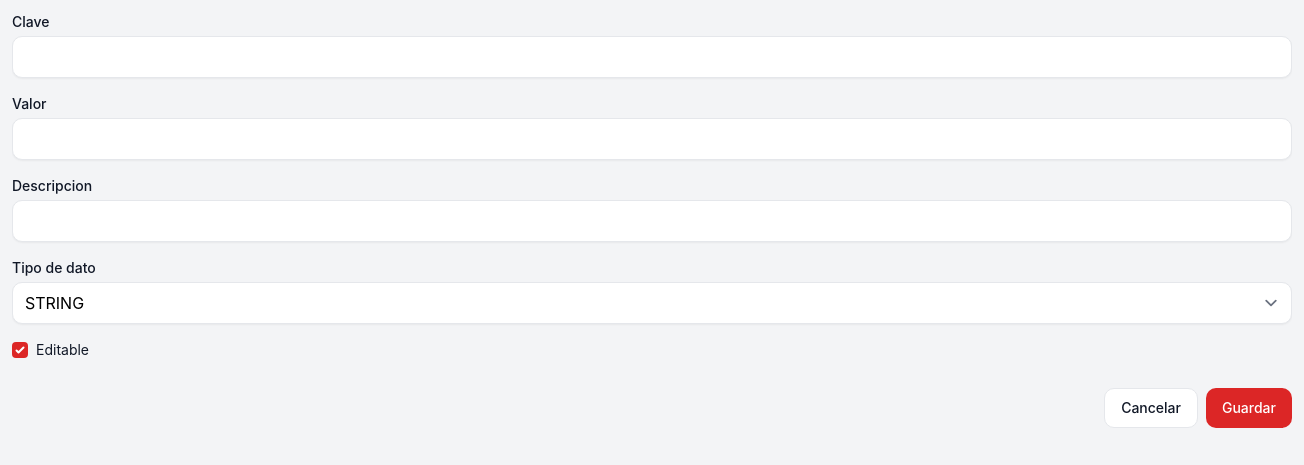
ParametroForm › rechaza submit con valor vacio
Type "app.test" into the field labelled "Clave" at {"x": 652, "y": 57}, box [12, 36, 1292, 78]
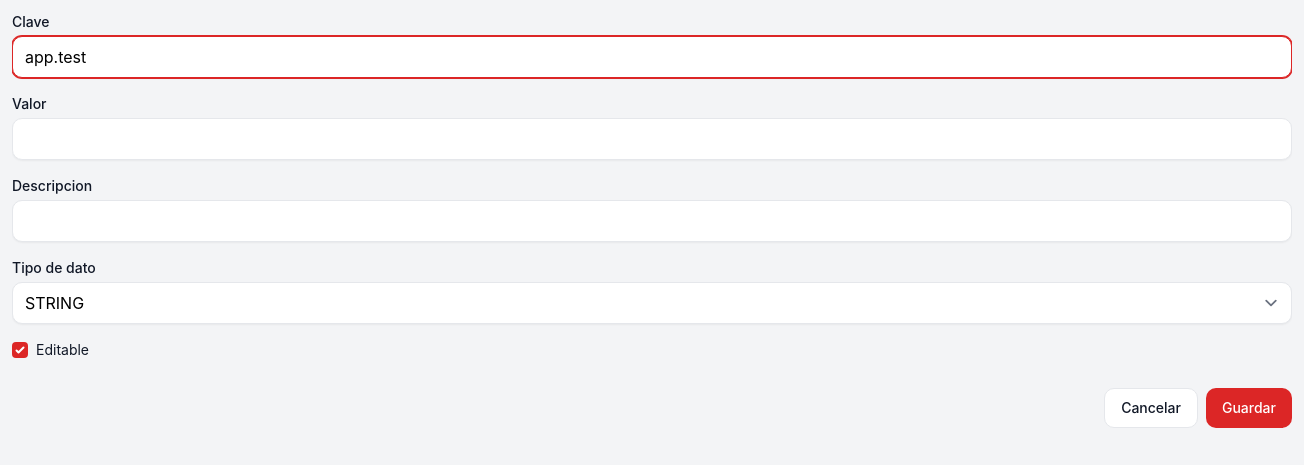
Click the button "Guardar" at {"x": 1249, "y": 408}, box [1206, 388, 1292, 428]
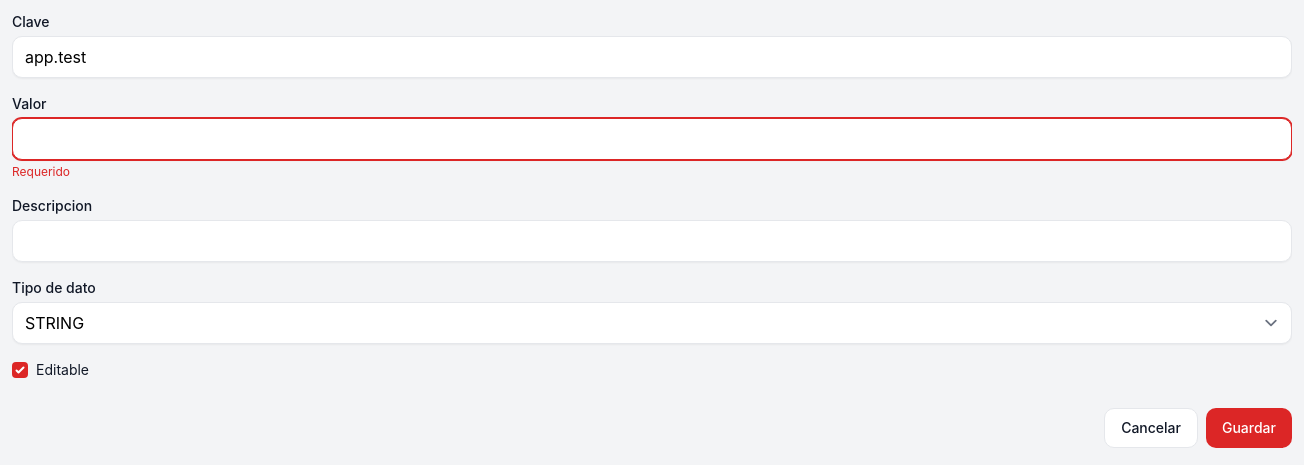
Result: the text "Requerido" is shown at [12, 164, 70, 179]
